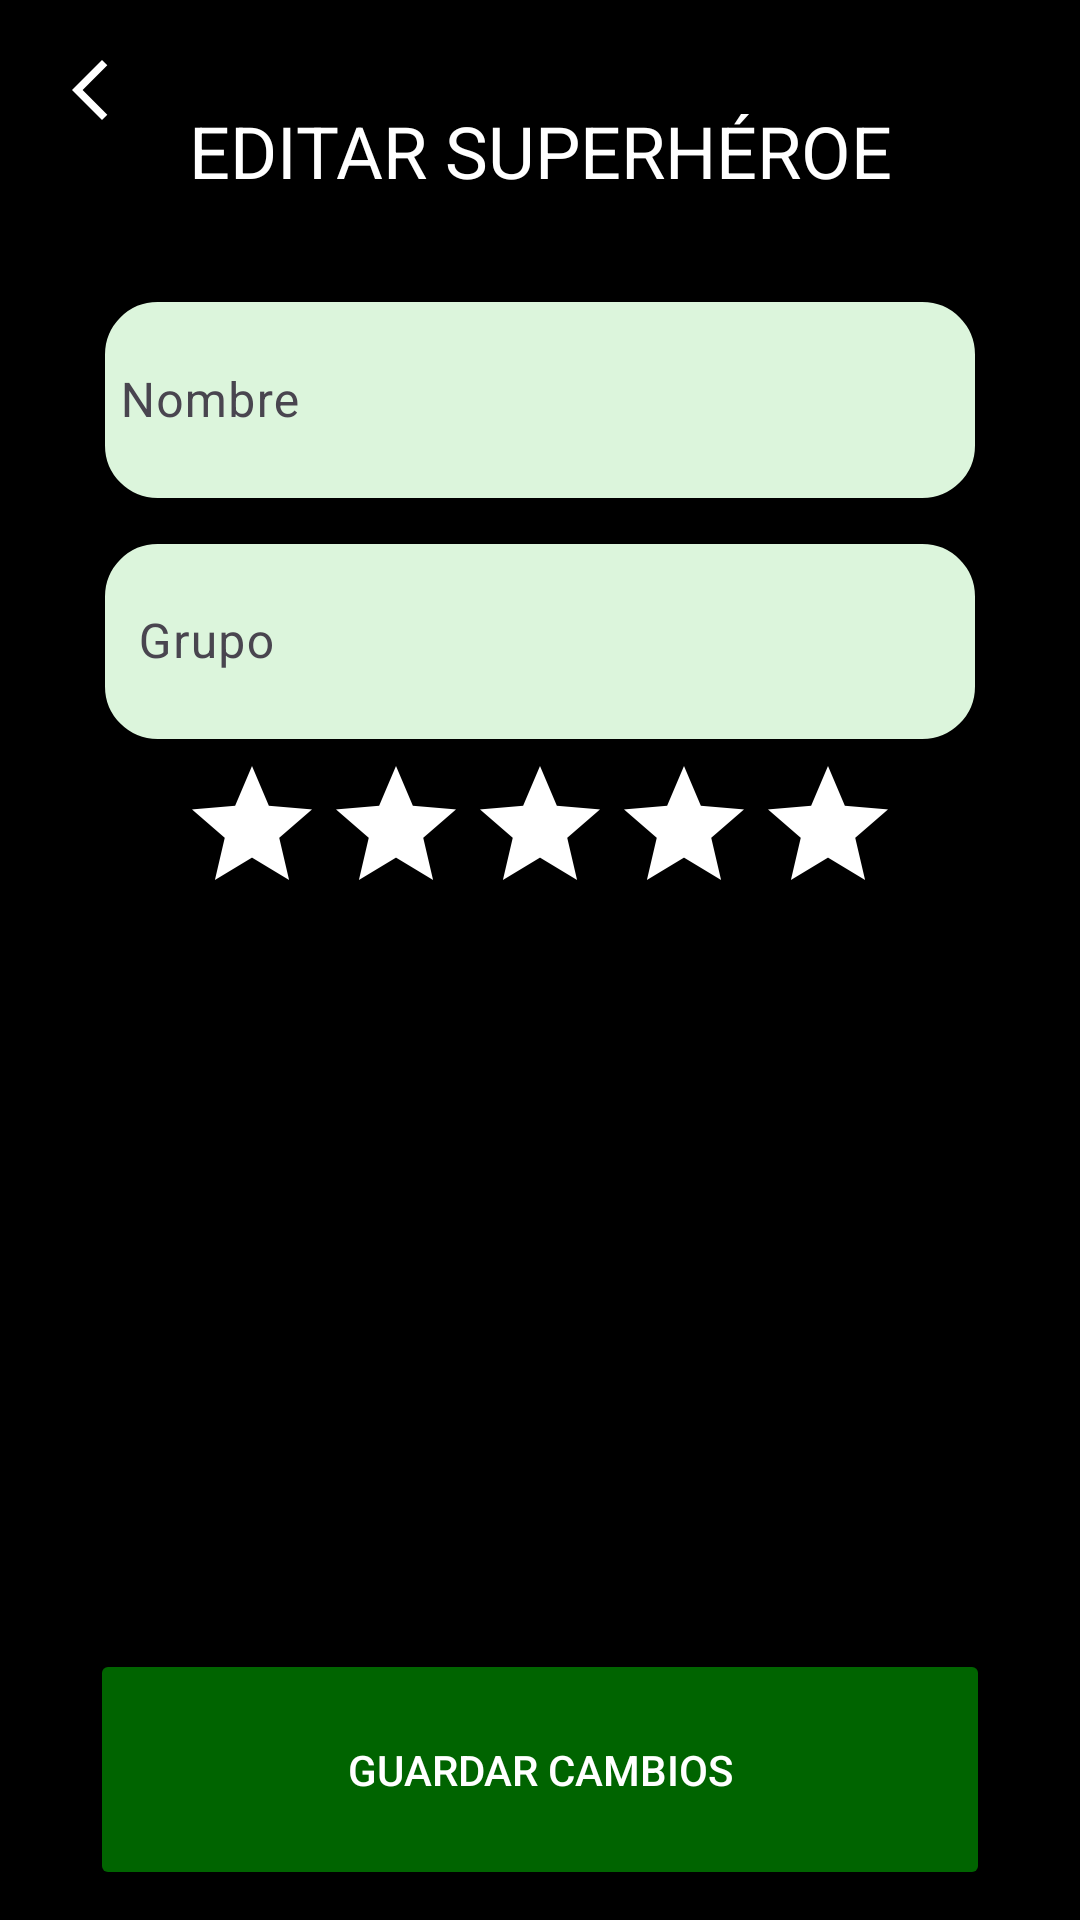

Point at icon controls on the screen. Image size 1080×1920, points as [x,y].
flechita atras blanco: [89,90]
